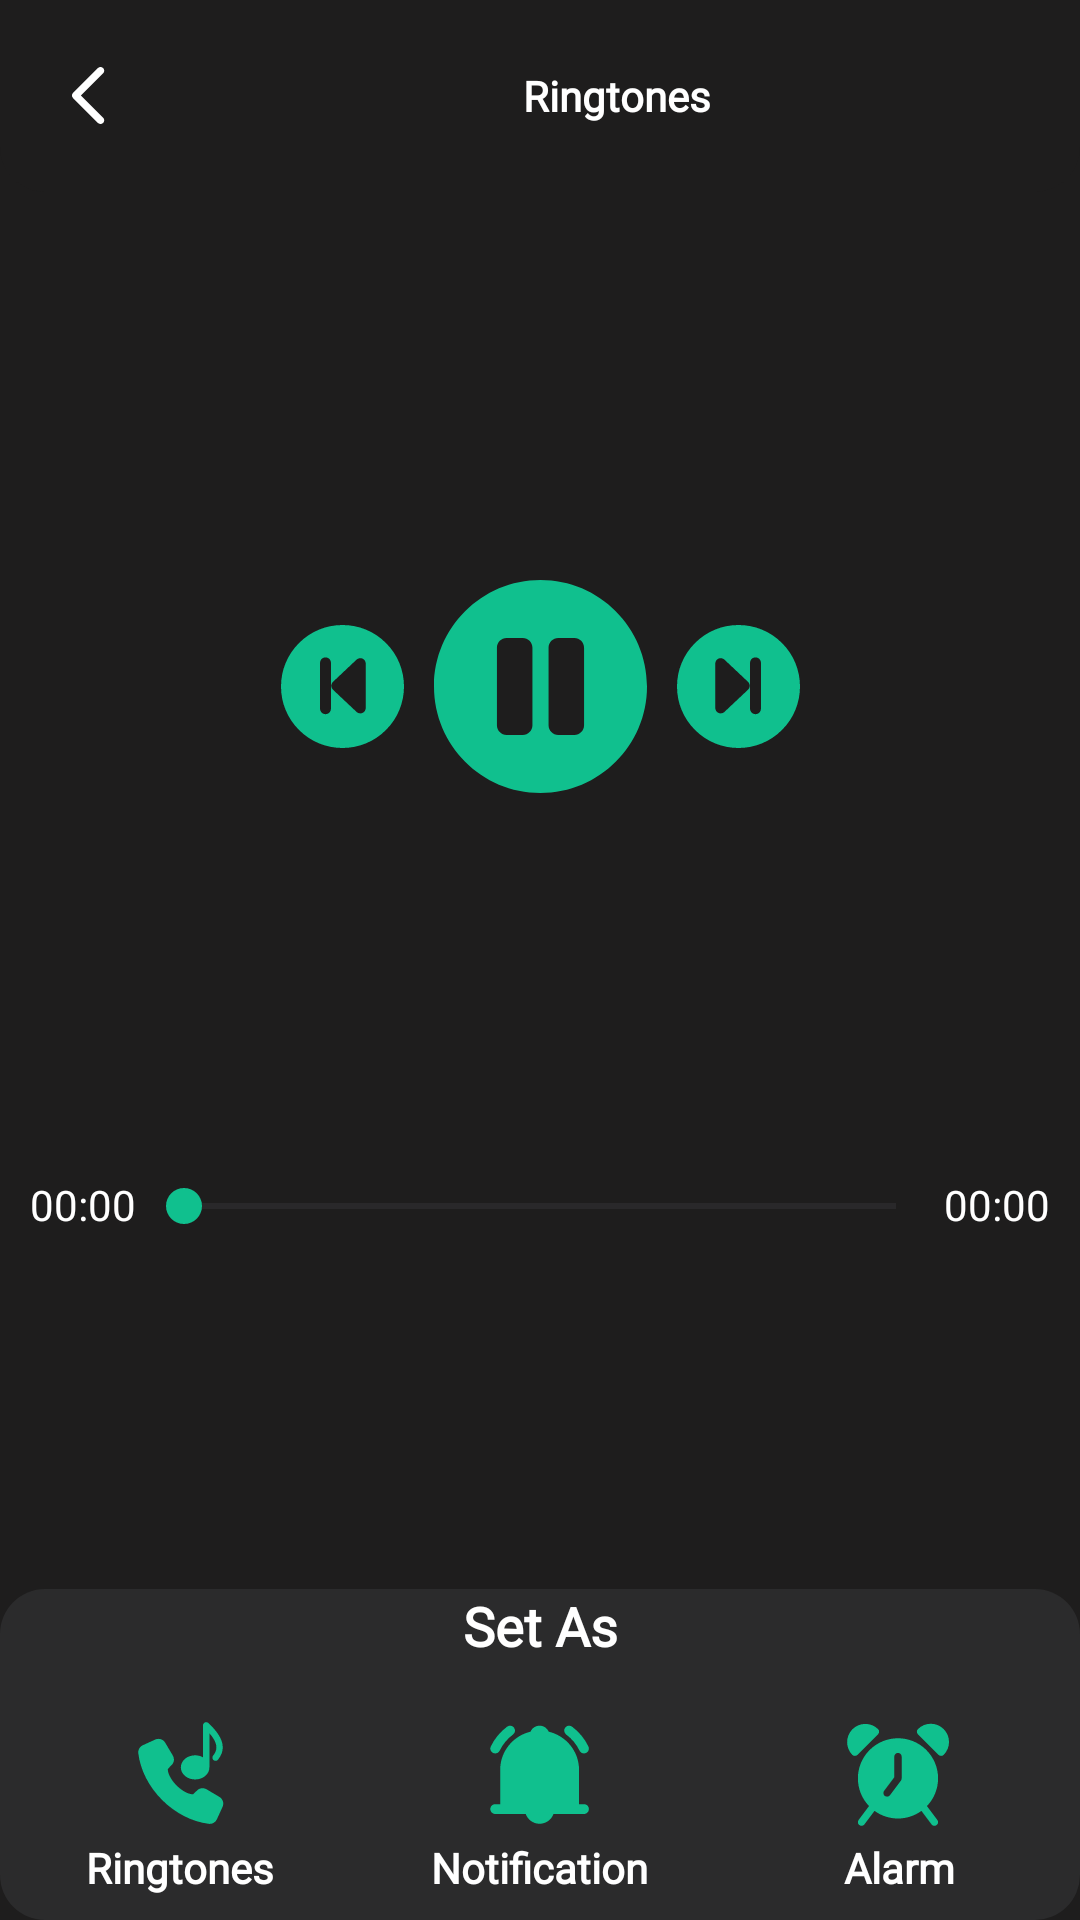

Icons on this 1080x1920 Android screen, each with its box as [x1=x1, y1=y1, x2=x2, y2=y2]:
Next: [x1=677, y1=625, x2=800, y2=748]
Play/Pause: [x1=434, y1=580, x2=647, y2=793]
